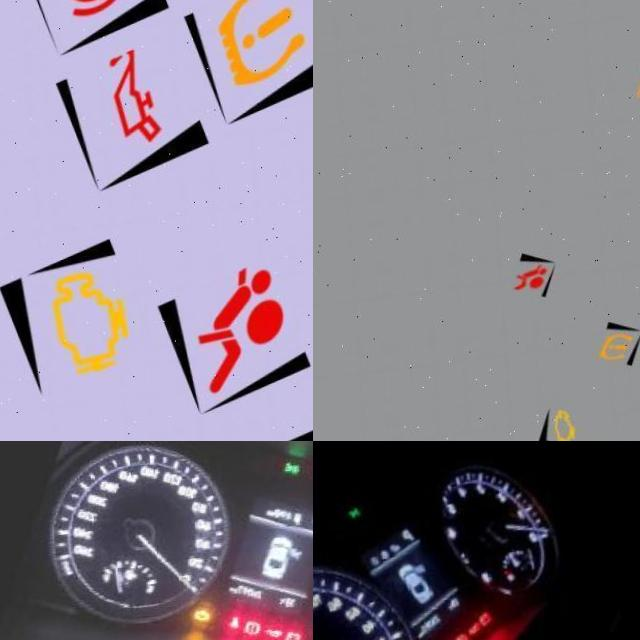Seat Belt: (222, 620, 237, 638)
